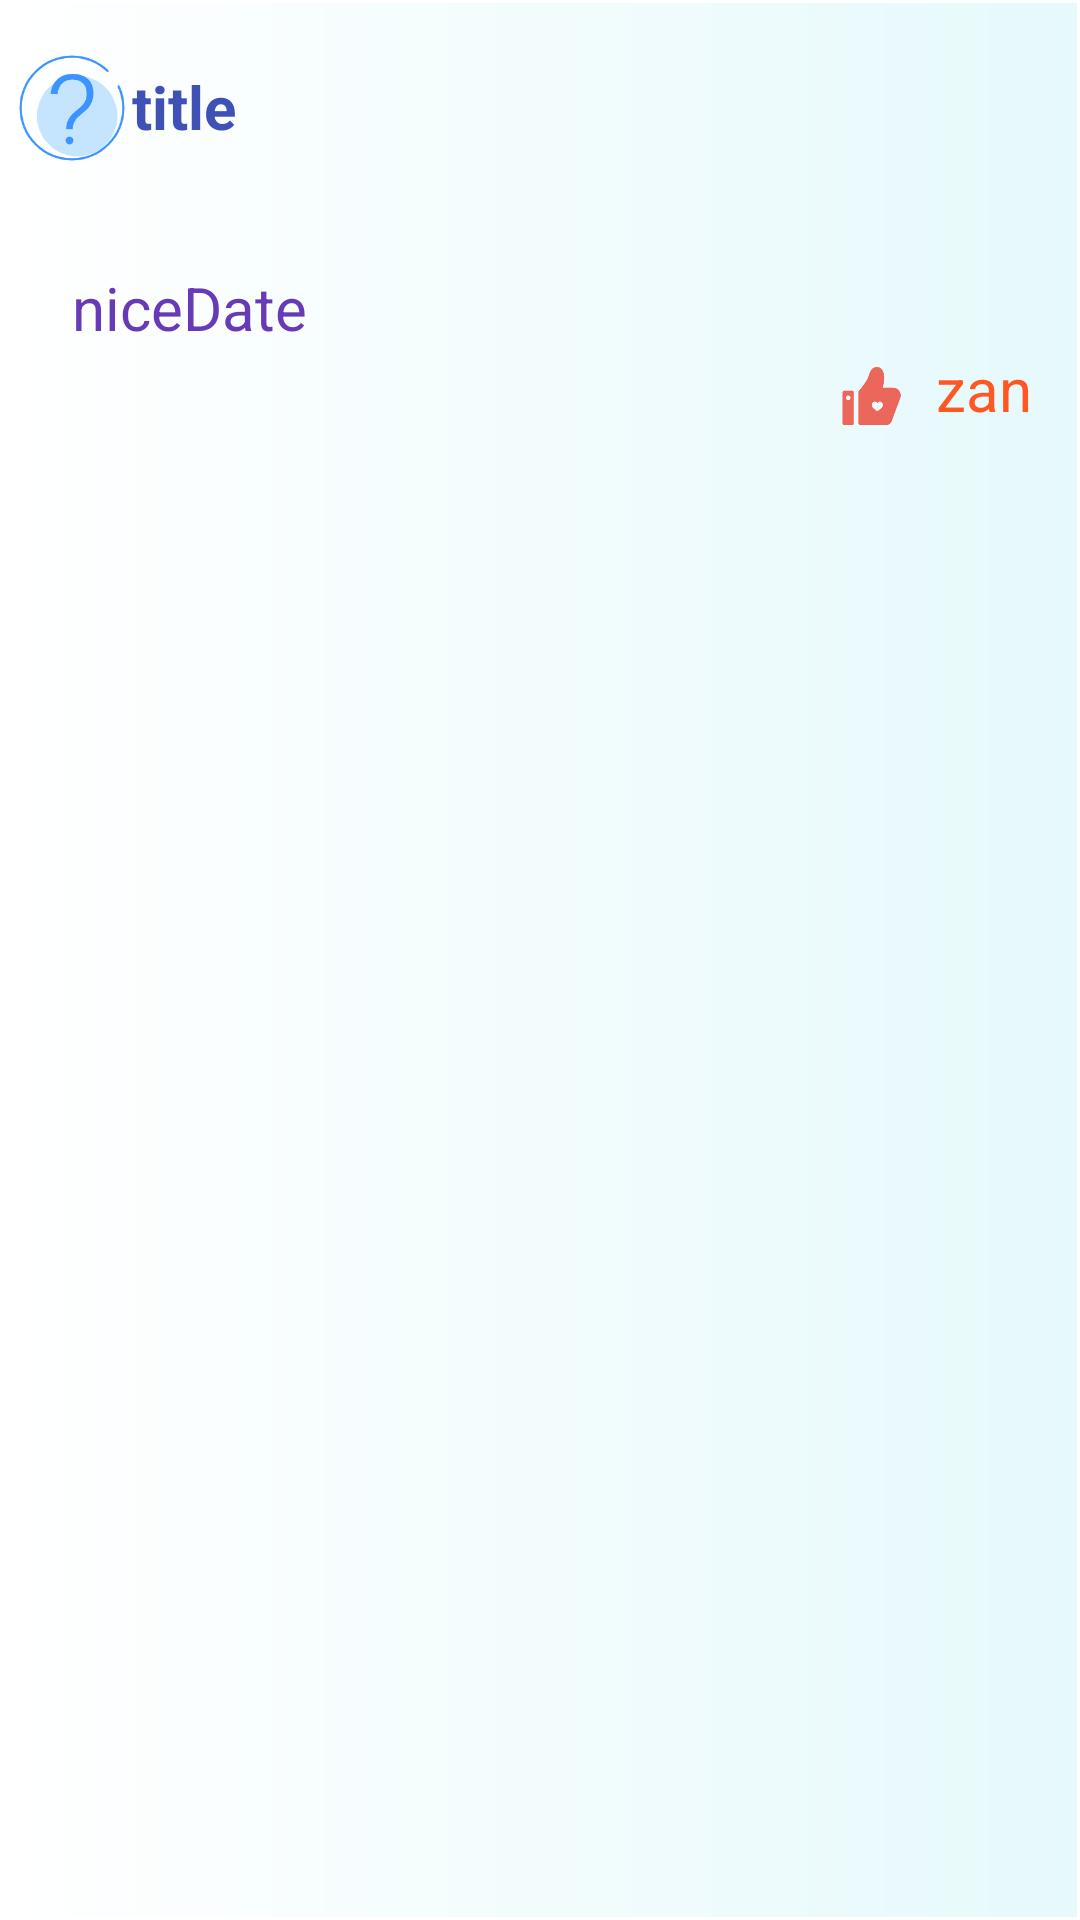

Screen size 1080px×1920px. Icon name, then its center in pixels as (x=x, y=y):
question: (x=72, y=108)
